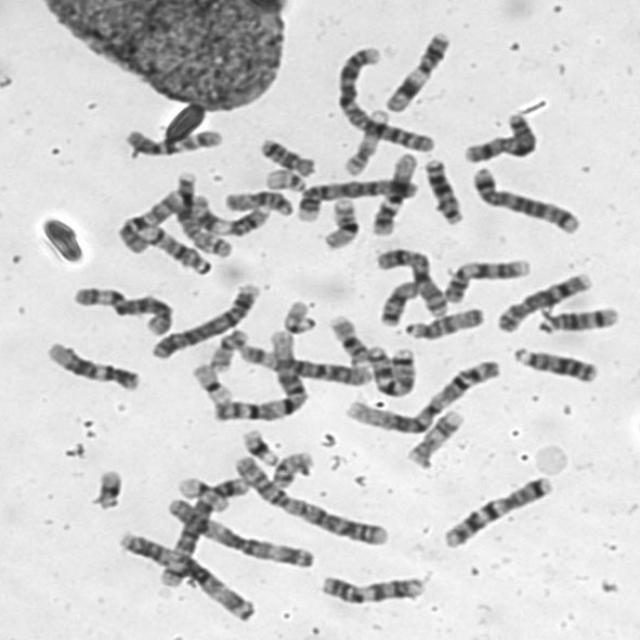A1: (341, 356, 502, 436), (208, 327, 310, 424)
A2: (230, 453, 391, 547), (332, 43, 438, 154)
A3: (115, 529, 259, 623), (164, 493, 316, 570)
B4: (150, 280, 263, 360), (292, 175, 420, 223)
B5: (156, 475, 248, 588), (468, 164, 582, 236)
C10: (118, 190, 183, 256), (120, 124, 224, 160)
C11: (380, 28, 453, 115), (190, 192, 270, 238)
C12: (42, 338, 142, 393), (367, 150, 418, 236)
C6: (235, 340, 373, 387), (68, 282, 175, 338)
C7: (438, 474, 554, 549), (366, 342, 418, 398)
C8: (492, 268, 594, 334), (174, 172, 234, 260)
C9: (440, 256, 532, 303), (315, 571, 427, 606)
D13: (508, 344, 600, 385), (420, 154, 465, 226)
D14: (139, 223, 213, 276), (535, 303, 620, 334)
D15: (400, 304, 486, 342), (221, 186, 294, 217)
E16: (327, 312, 370, 365), (320, 195, 360, 250)
E17: (402, 408, 466, 470), (340, 105, 390, 176)
E18: (257, 134, 317, 178), (375, 278, 421, 327)
F19: (173, 475, 232, 513), (187, 361, 235, 404)
F20: (206, 325, 250, 372), (268, 448, 316, 489)
G21: (90, 464, 127, 512), (238, 426, 280, 466)
G22: (280, 296, 318, 334), (263, 166, 309, 193)
X: (372, 243, 448, 319), (459, 111, 537, 165)
